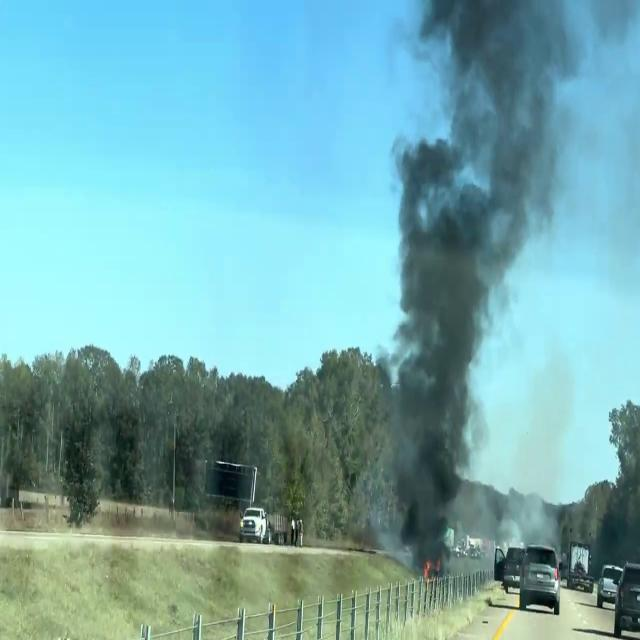Smoke: (370, 0, 584, 563)
